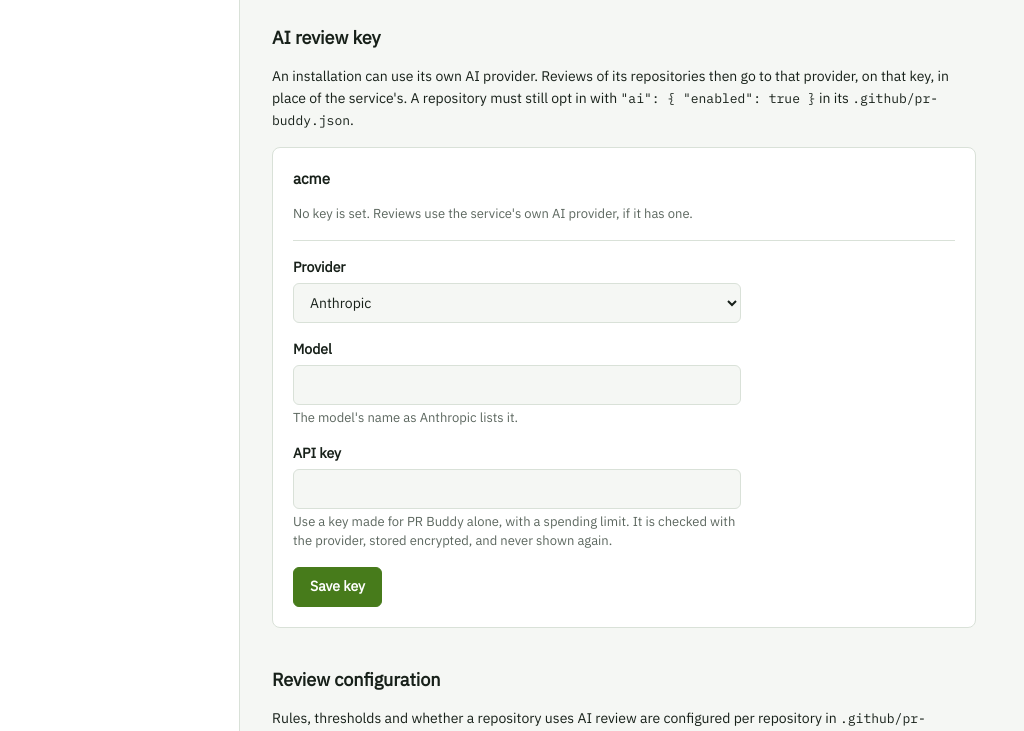
Test: saving a key › offers to sign in again when the session has ended
(page scrolled)
In the field labelled "Model": (517, 384) left=293, top=364, right=741, bottom=404, type "m"
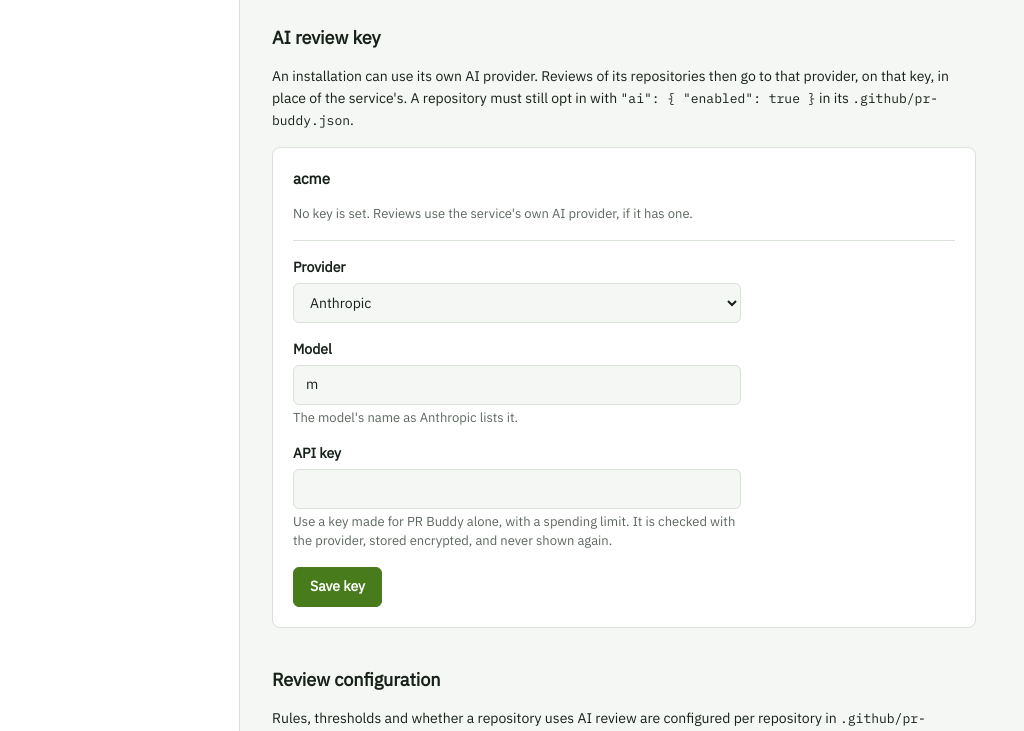
In the password field labelled "API key": (517, 489) left=293, top=469, right=741, bottom=509, type "sk-KEY-CANARY-0123456789abcd"
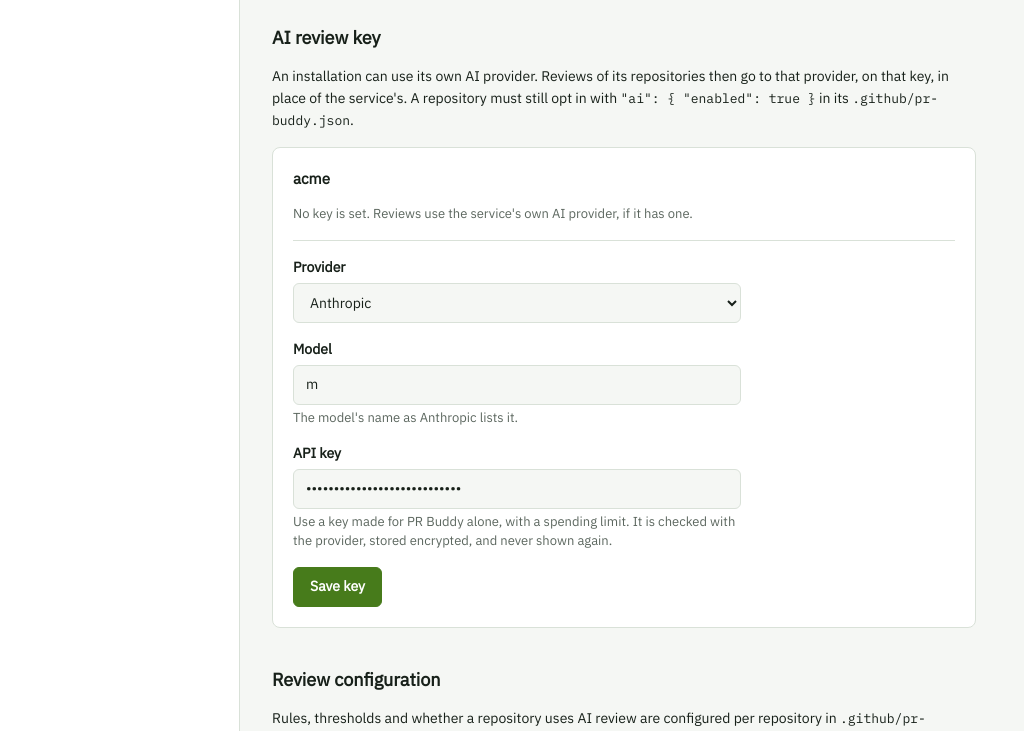
Click the button "Save key": (338, 587) left=293, top=567, right=382, bottom=607
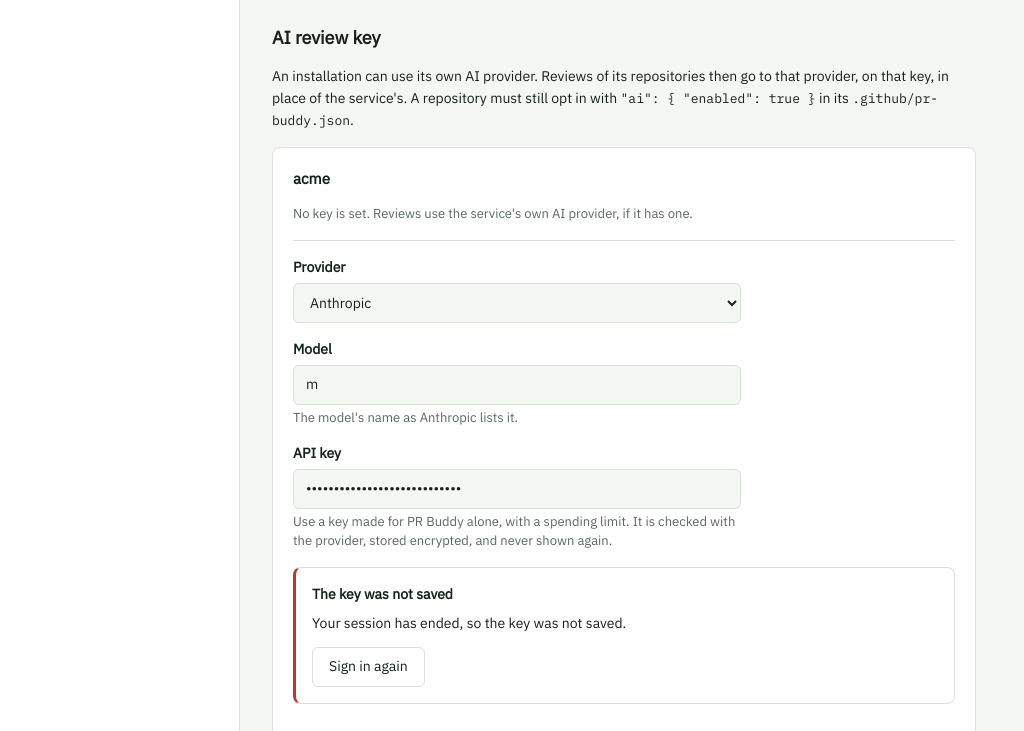
Expected: the message shows "Your session has ended, so the key was not saved.", left=312, top=614, right=626, bottom=632
